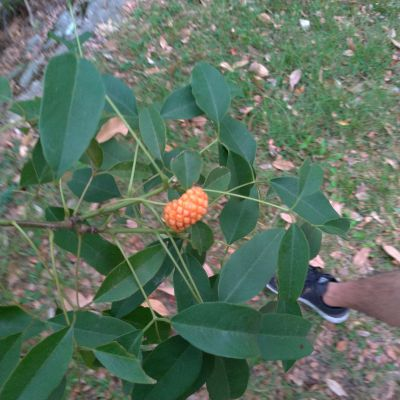eggs: (158, 181, 212, 228)
